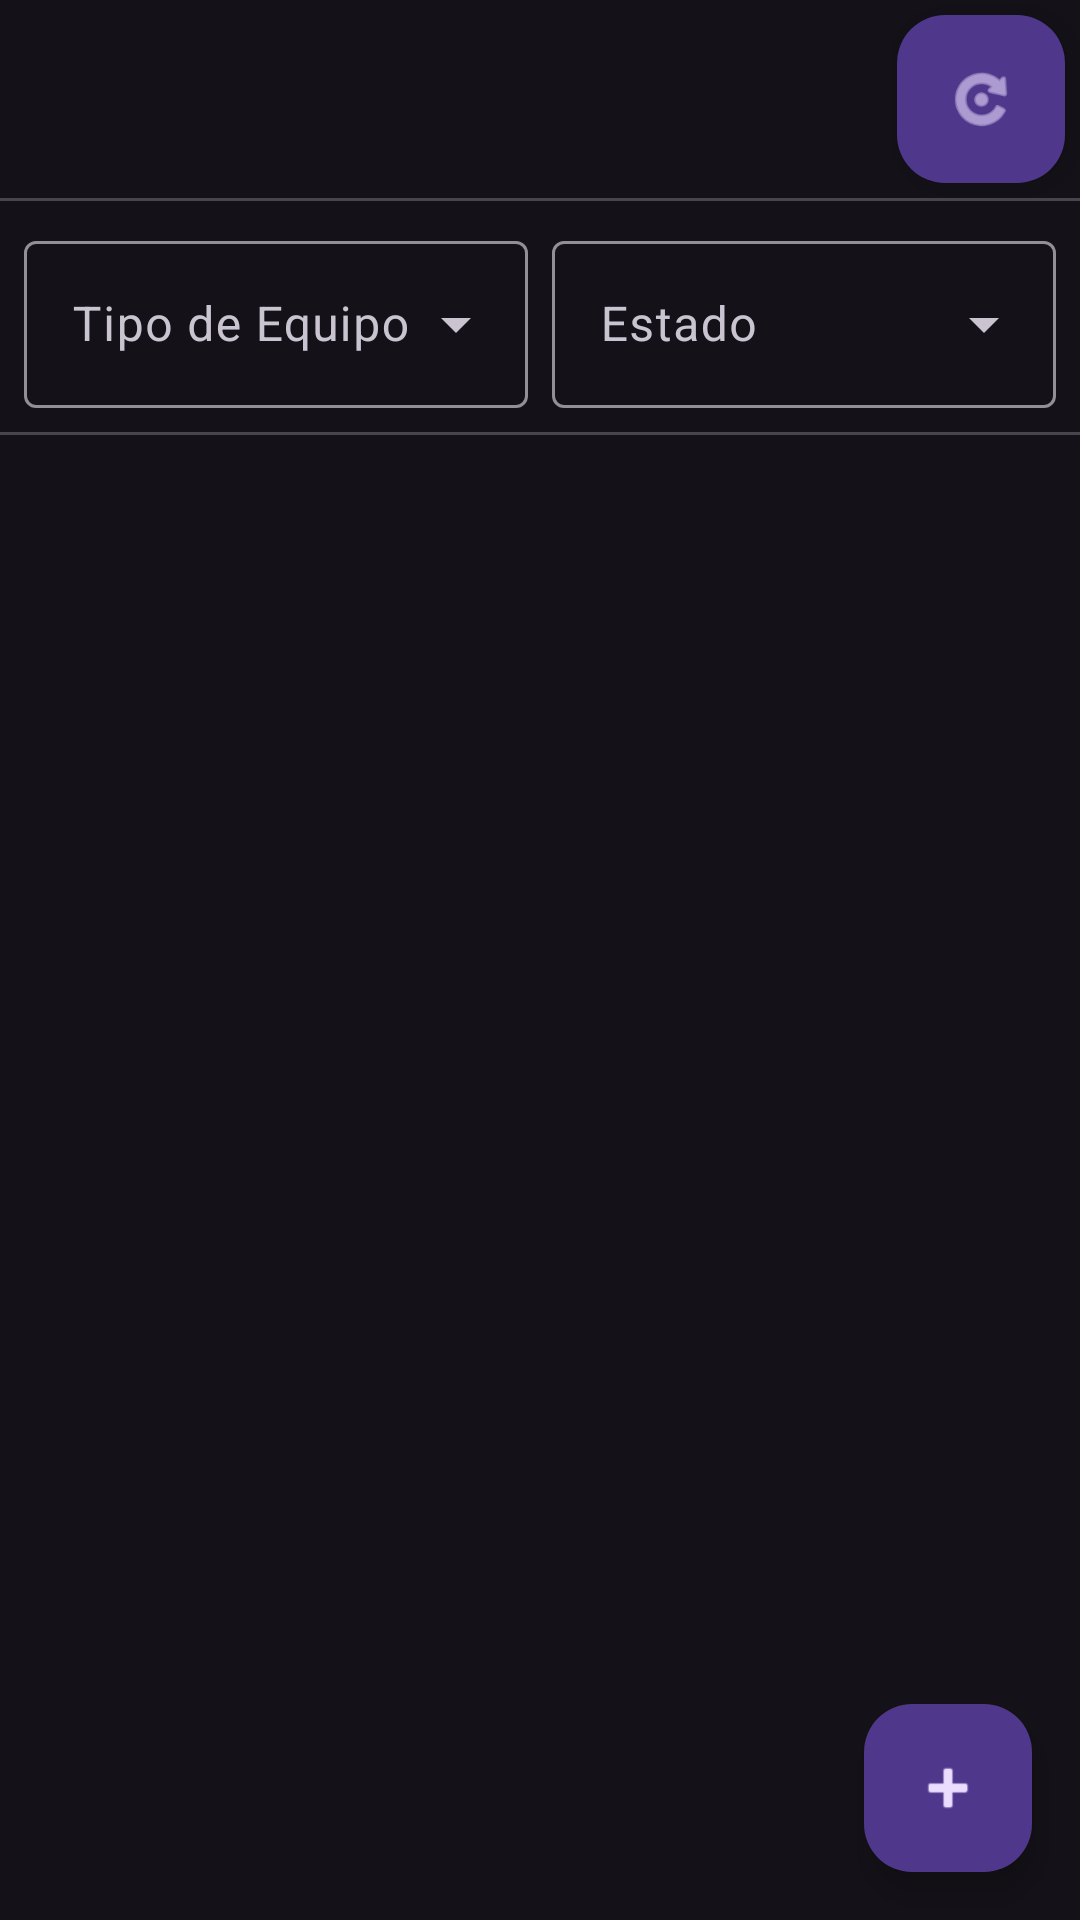

Screen size 1080px×1920px. Icon name, then its box in pixels as (x1, y1, x2, y2):
Agregar equipo: (864, 1704, 1032, 1872)
Recargar: (897, 15, 1065, 183)
